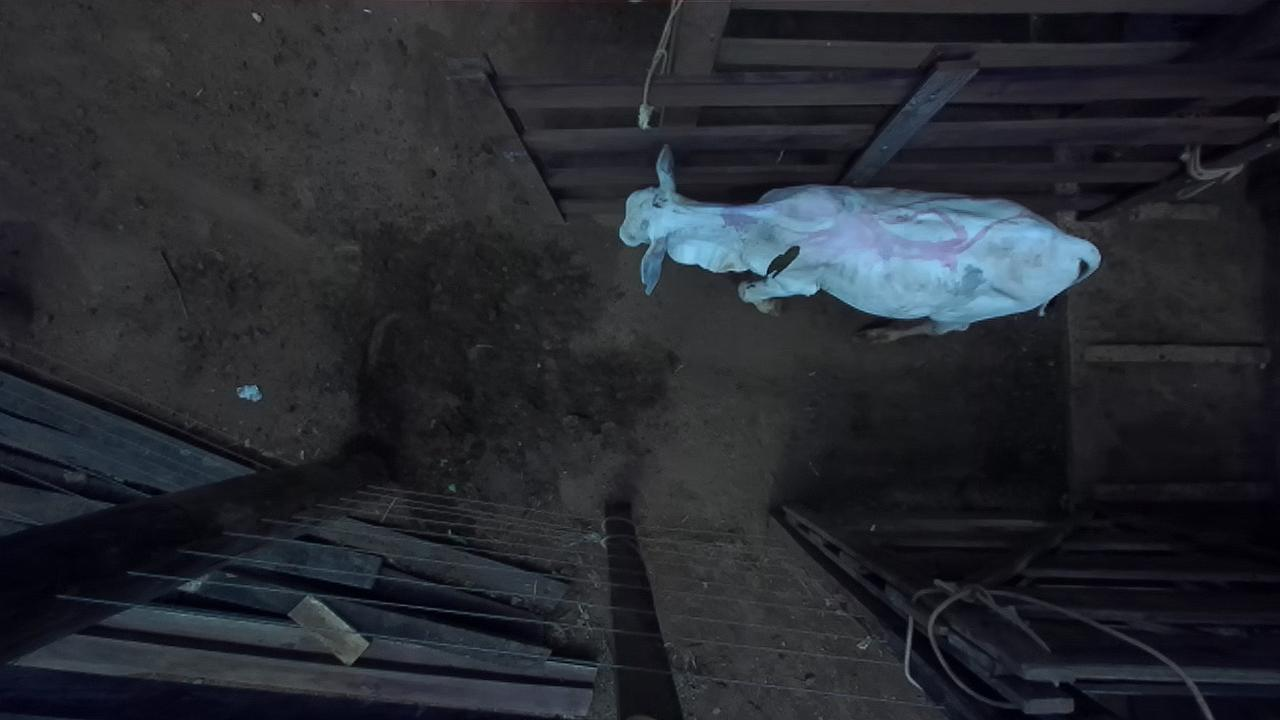cattle: (617, 142, 1102, 344)
